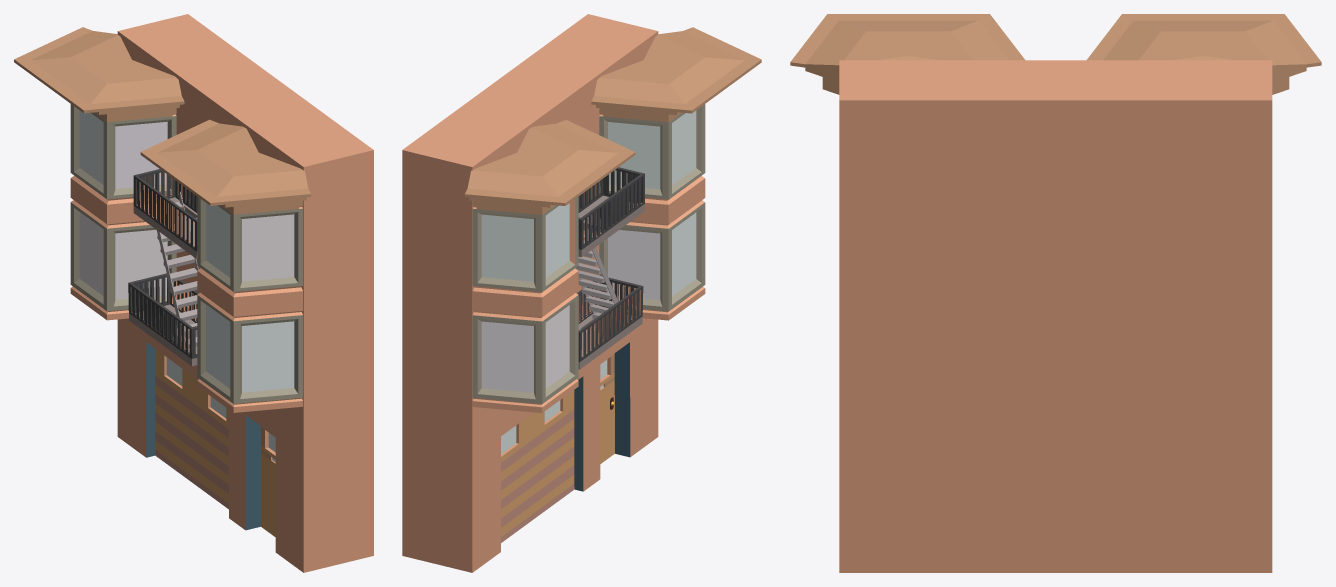
Rendered from KA_facade_n3.fbx.
3 views of the same model, side by side, from view 1: azimuth 30°, elevation 25°; view 2: azimuth 150°, elevation 25°; view 3: azimuth 270°, elevation 25° (orthographic). The views are drawn at different scales.
Parts seen in each view (by area): view 1: Box001; view 2: Box001; view 3: Box001.
Boxes of the visible parts, x1,y1,x2,y2 form: Box001: (14,14,373,572); Box001: (402,14,761,572); Box001: (790,14,1321,572).
Size of the model in its own units: 120 by 275 by 281.
